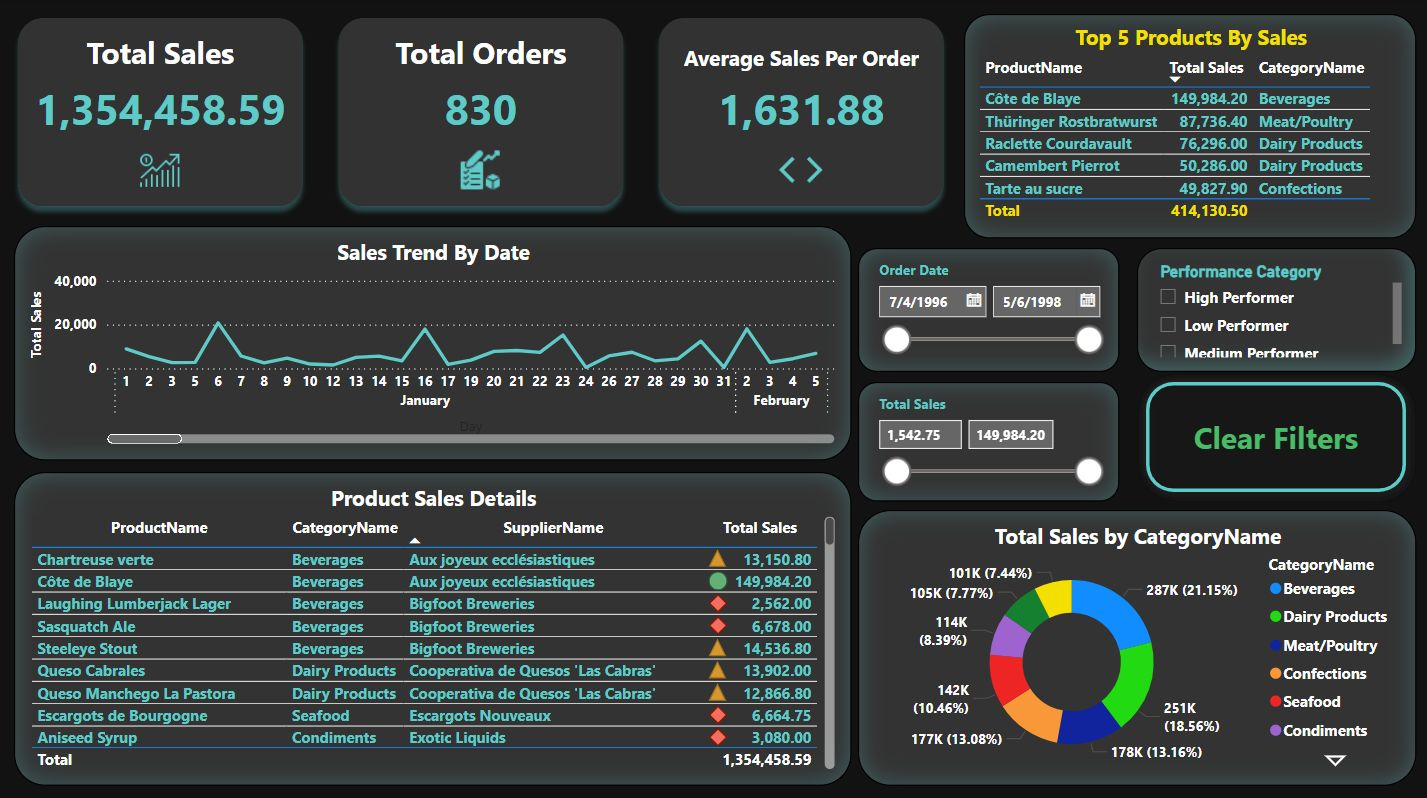

What the dashboard file says about the page in this screenshot:
{"tool":"powerbi","page":{"name":"Sales Overview","canvas":[1280,720],"ordinal":0},"visuals":[{"type":"cardVisual","fields":{"Data":["MeasureTable.Total Sales","MeasureTable.Total Orders","MeasureTable.Average Sales Per Order"]},"box":[0,0,864.2,203.3],"z":0},{"type":"lineChart","title":"Sales Trend By Date","fields":{"Category":["Orders.OrderDate.Variation.Date Hierarchy.Month","Orders.OrderDate.Variation.Date Hierarchy.Day"],"Y":["MeasureTable.Total Sales"]},"box":[13.4,203.3,749.6,209.6],"z":1000},{"type":"tableEx","title":"Product Sales Details","fields":{"Values":["ProductSales.ProductName","ProductSales.CategoryName","ProductSales.SupplierName","MeasureTable.Total Sales"]},"box":[13.4,423.6,749.6,281.2],"z":2000},{"type":"tableEx","title":"Top 5 Products By Sales","fields":{"Values":["ProductSales.ProductName","MeasureTable.Total Sales","ProductSales.CategoryName"]},"box":[864.2,0,404.8,203.3],"z":3000},{"type":"donutChart","fields":{"Category":["ProductSales.CategoryName"],"Y":["MeasureTable.Total Sales"]},"box":[769.3,457.6,499.7,247.2],"z":4000},{"type":"slicer","fields":{"Values":["Orders.OrderDate"]},"box":[769.3,212.2,233.7,121.8],"z":5000},{"type":"slicer","fields":{"Values":["ProductSales.TotalSales"]},"box":[769.3,343,233.7,107.5],"z":6000},{"type":"slicer","fields":{"Values":["ProductSales.PerformanceCategory"]},"box":[1019,212.7,250,120.9],"z":7000},{"type":"actionButton","box":[1018.2,334,250.7,116.4],"z":8000}]}

Visuals, with their boxes in screenshot pixels (x1, y1, x2, y2), scaled from the page's 1280x720 canvas onto the 1427x798 screenshot:
cardVisual - MeasureTable.Total Sales x MeasureTable.Total Orders: bbox(0, 0, 963, 225)
"Sales Trend By Date" lineChart: bbox(15, 225, 851, 458)
"Product Sales Details" tableEx: bbox(15, 469, 851, 781)
"Top 5 Products By Sales" tableEx: bbox(963, 0, 1415, 225)
donutChart - ProductSales.CategoryName x MeasureTable.Total Sales: bbox(858, 507, 1415, 781)
slicer - Orders.OrderDate: bbox(858, 235, 1118, 370)
slicer - ProductSales.TotalSales: bbox(858, 380, 1118, 499)
slicer - ProductSales.PerformanceCategory: bbox(1136, 236, 1415, 370)
actionButton: bbox(1135, 370, 1415, 499)
